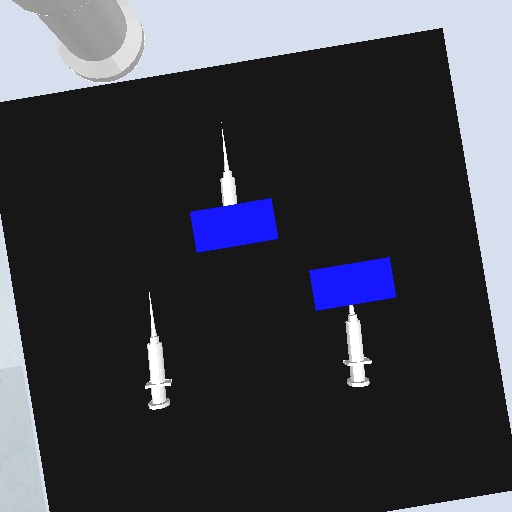jeringuilla: (141, 287, 176, 412), (341, 304, 374, 390), (216, 118, 241, 208)
